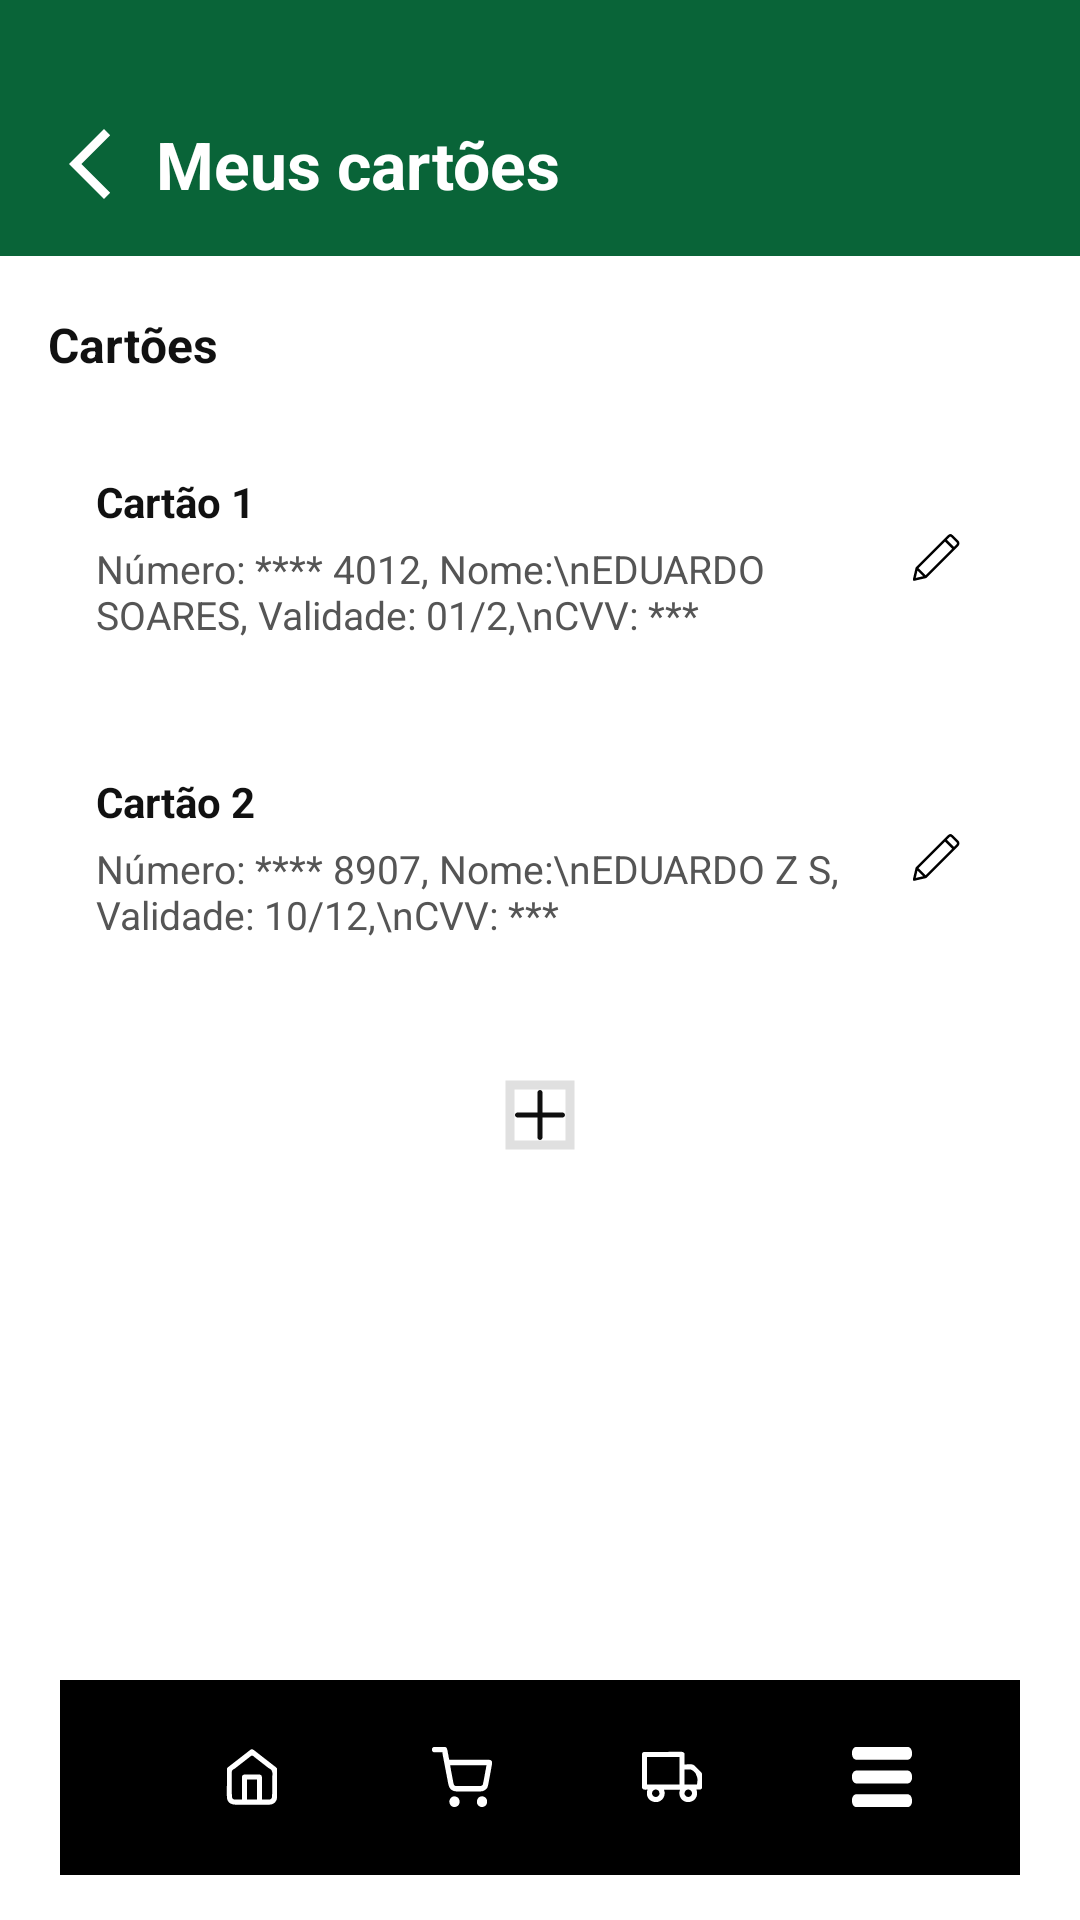

Named icons in this screenshot (1080px×1920px) and their centers, (x=x, y=y):
add: (x=540, y=1115)
Carrinho: (x=462, y=1777)
Editar cartão: (x=936, y=557), (x=936, y=857)
Entrega: (x=672, y=1776)
Home: (x=251, y=1777)
Menu: (x=882, y=1777)
Voltar: (x=89, y=164)
